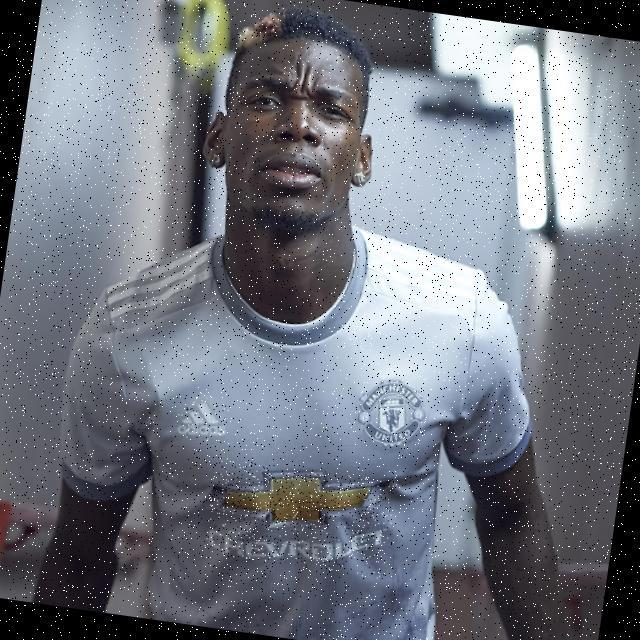Adidas: (174, 396, 231, 444)
Chevrolet: (204, 457, 398, 580)
